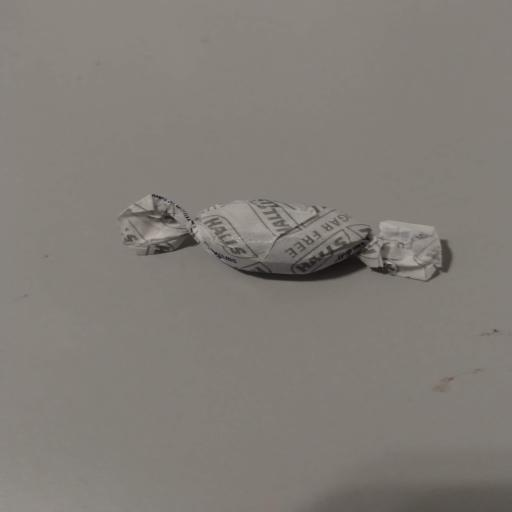chocolate: (119, 195, 440, 280)
